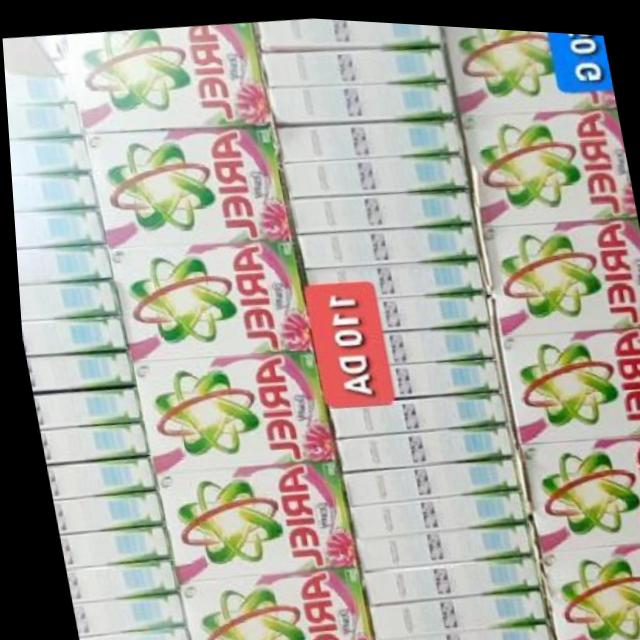Detergent: (76, 108, 288, 259), (123, 334, 333, 484), (104, 219, 309, 369), (144, 446, 353, 586), (58, 9, 271, 142), (452, 89, 636, 231), (474, 197, 640, 338), (490, 310, 640, 441), (511, 412, 640, 556), (167, 551, 370, 640)
